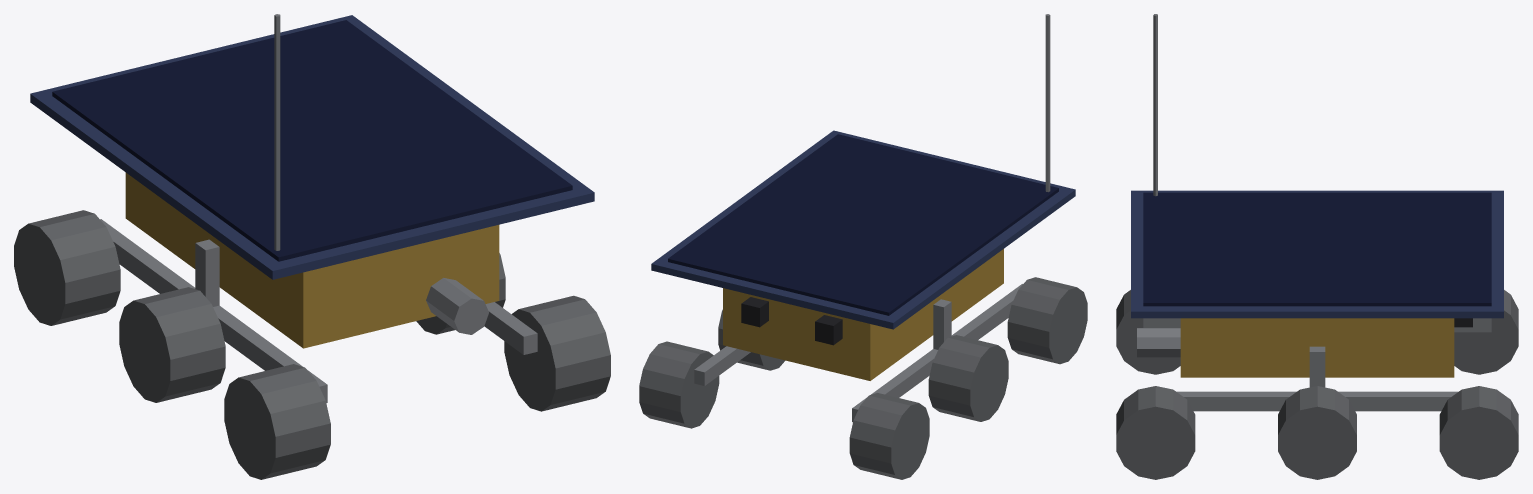
Rendered from sojourner.glb.
3 renders of one model, left to right at view 1: azimuth 30°, elevation 25°; view 2: azimuth 150°, elevation 25°; view 3: azimuth 270°, elevation 25°, orthographic. The views are drawn at different scales.
Visible parts, largest first — view 1: sojourner; view 2: sojourner; view 3: sojourner.
Boxes of the visible parts, x1=… form: sojourner: x1=14, y1=14, x2=610, y2=479; sojourner: x1=639, y1=14, x2=1087, y2=479; sojourner: x1=1116, y1=14, x2=1518, y2=479.
Bounding box in the file's own units: 0.479 × 0.62 × 0.6467.
